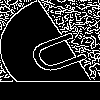U: (25, 25, 100, 78)
